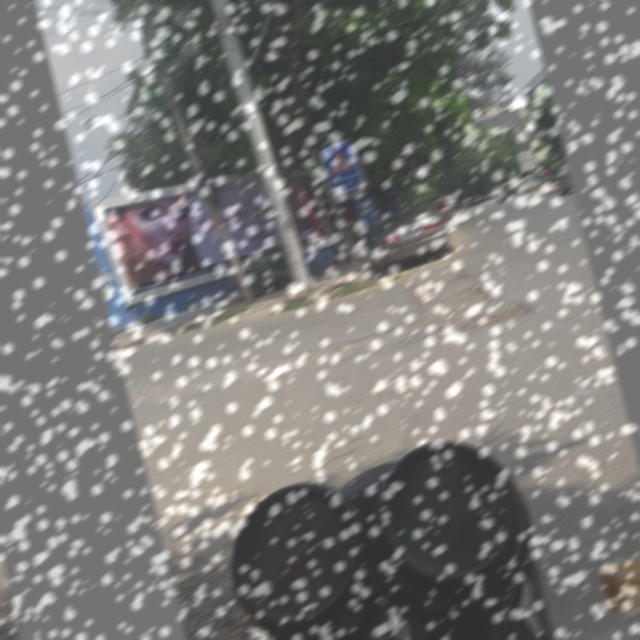Side_Road_Left: (322, 141, 361, 181)
